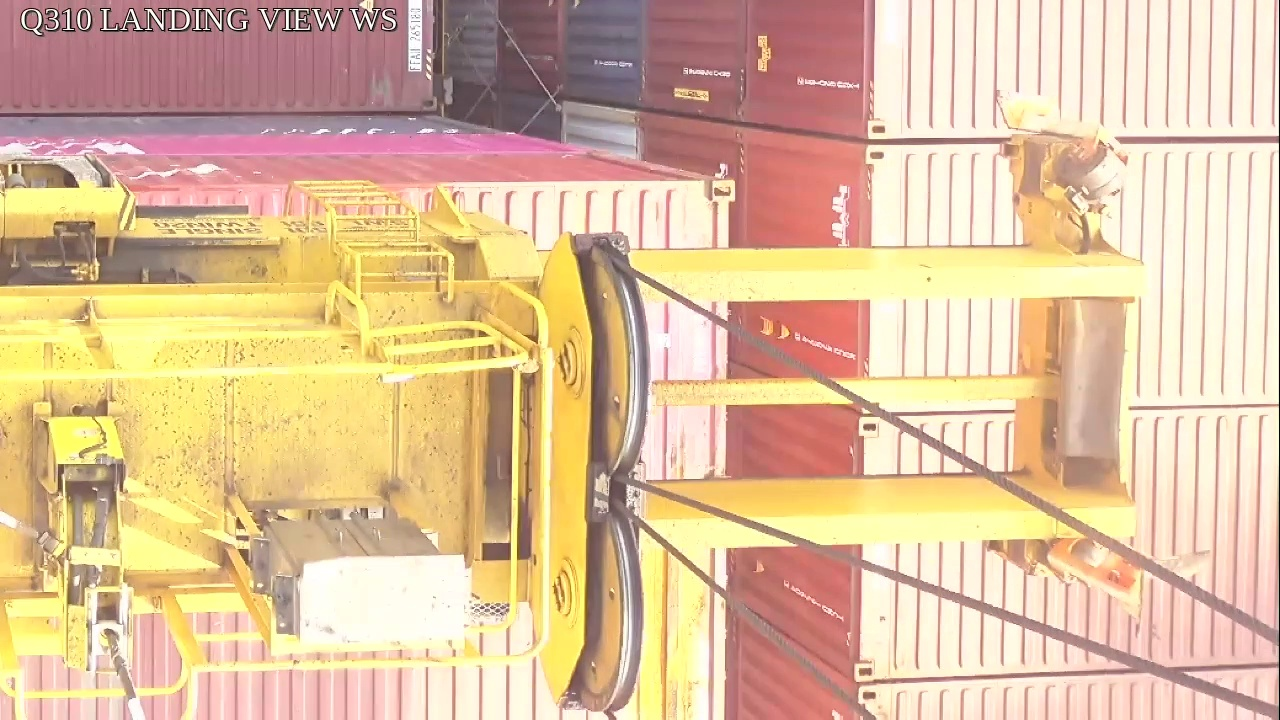right: (529, 230, 651, 711)
